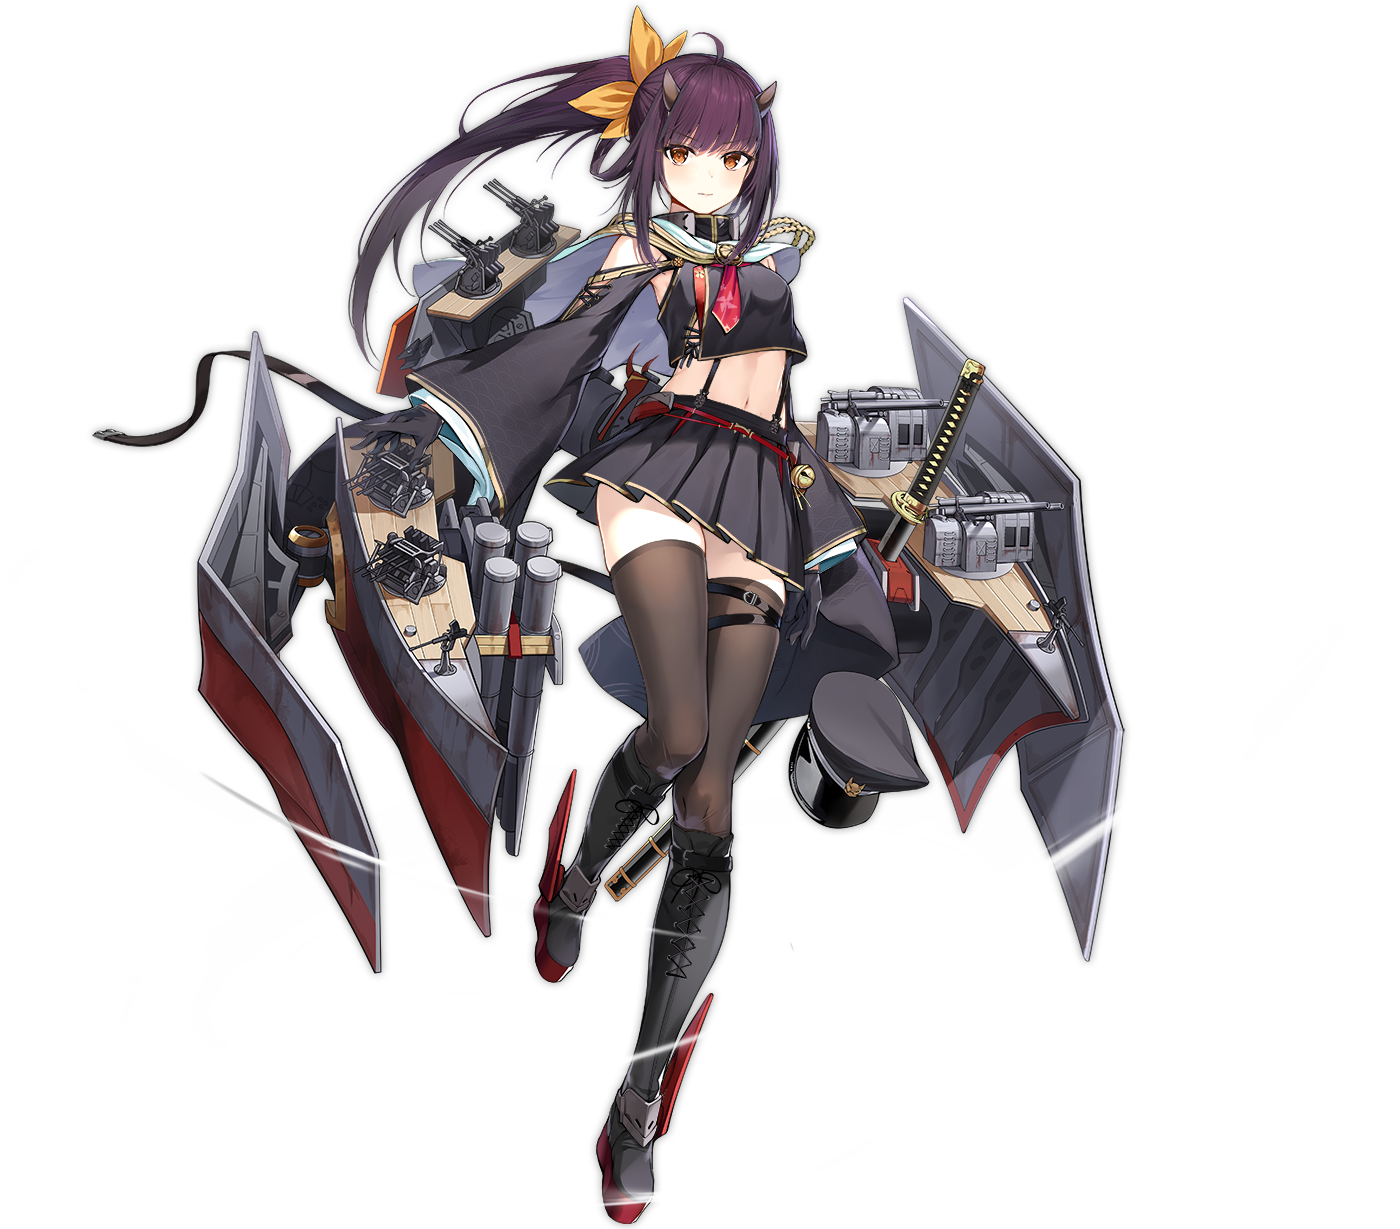person: (393, 44, 891, 879)
